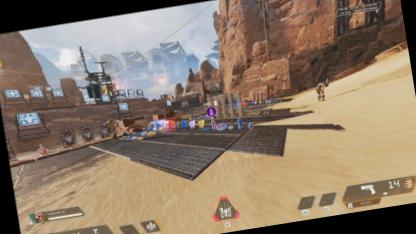Target: (106, 116, 119, 140)
